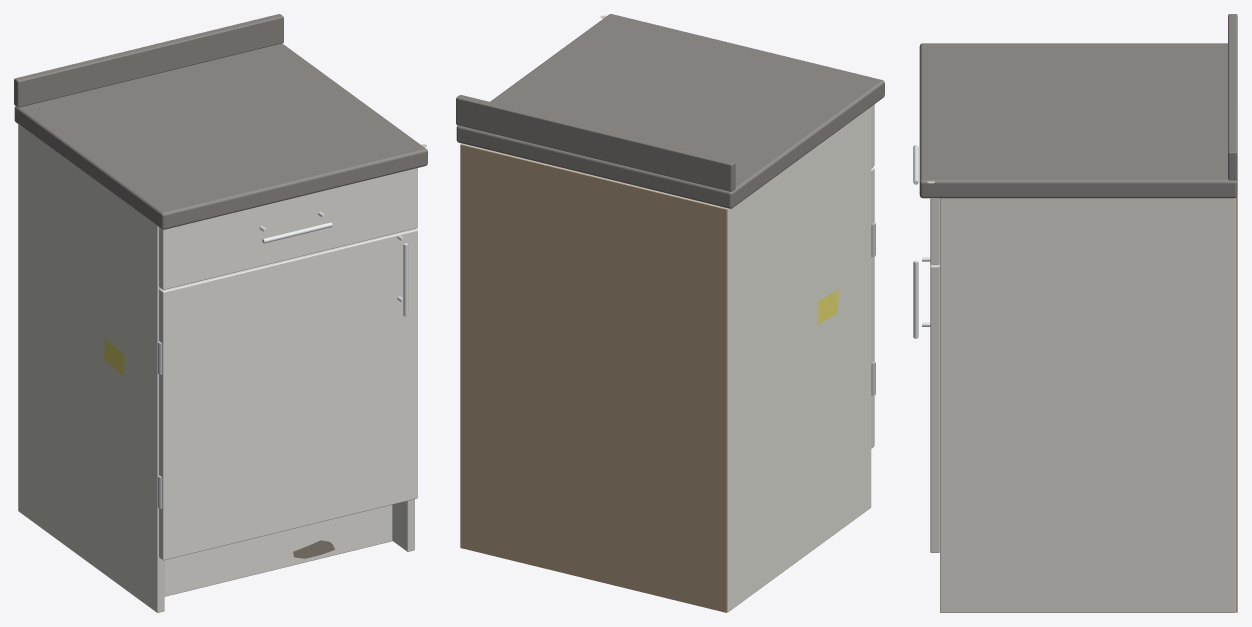
File: furniture_kettle_unit.fbx
3 renders of one model, left to right at view 1: azimuth 30°, elevation 25°; view 2: azimuth 150°, elevation 25°; view 3: azimuth 270°, elevation 25°, orthographic. The views are drawn at different scales.
Parts seen in each view (by area): view 1: body, door_L, drawer_1; view 2: body, door_L; view 3: body, door_L, drawer_1.
Part boxes in pixels (bbox=[...]): body: bbox=[14, 14, 427, 612]; door_L: bbox=[157, 228, 417, 560]; drawer_1: bbox=[159, 168, 417, 289]; body: bbox=[456, 14, 884, 612]; door_L: bbox=[871, 168, 875, 448]; body: bbox=[919, 14, 1237, 612]; door_L: bbox=[913, 257, 939, 552]; drawer_1: bbox=[913, 145, 939, 264].
Bounding box in the file's own units: 0.6277 × 0.965 × 0.612.
